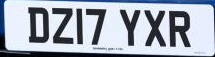character: (50, 5, 75, 45), (167, 8, 192, 48), (143, 8, 167, 48), (118, 7, 141, 47), (26, 5, 50, 43), (84, 6, 106, 46), (74, 6, 84, 45)
